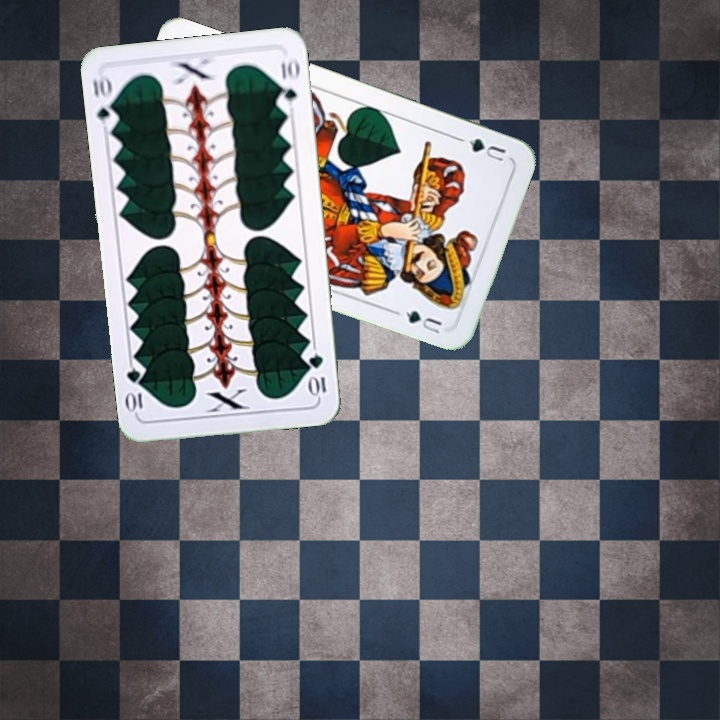G10: (88, 72, 120, 131), (305, 350, 329, 399)
GU: (455, 133, 508, 166)
